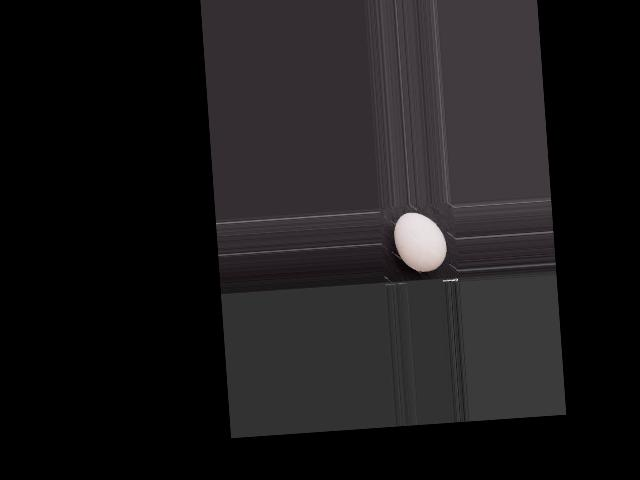egg: (392, 210, 447, 274)
